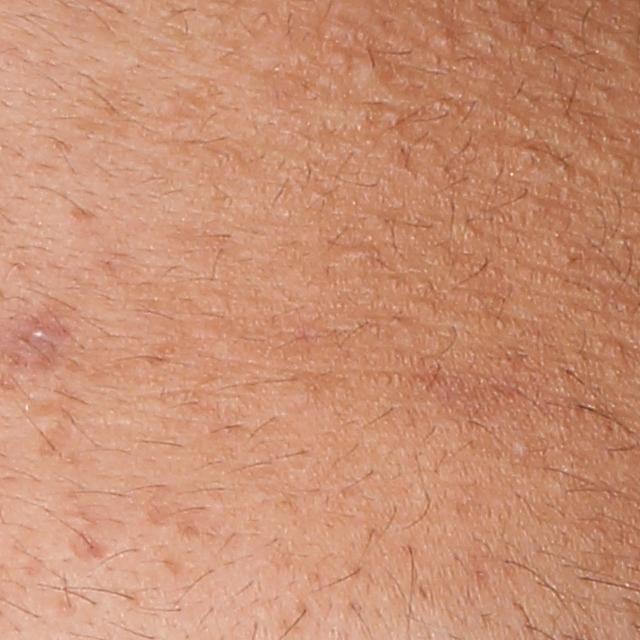comedo: (351, 53, 392, 94), (427, 25, 455, 59), (510, 438, 535, 458)
